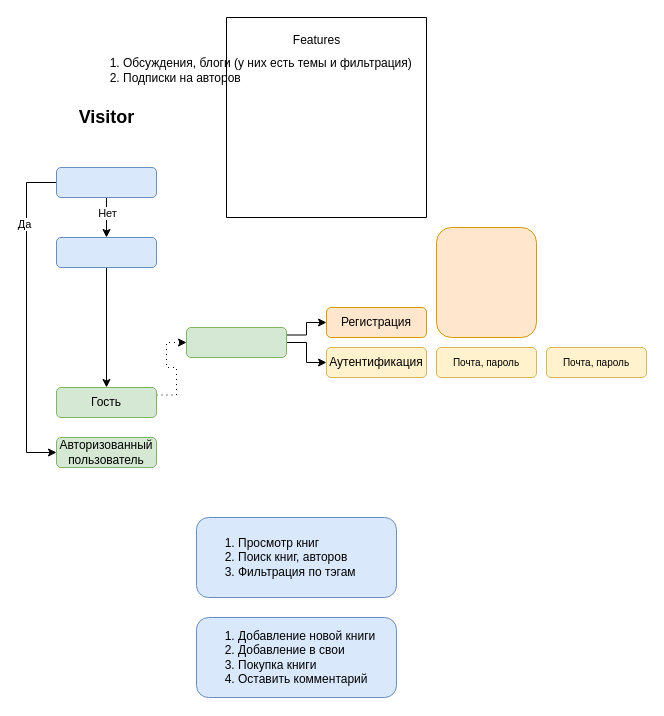
The diagram is 664 pixels wide and 716 high, and some of its shapes have lost their labels. Here are the shapes that lost their labels. From the top down, the centre of each, then its label:
At pixel 106 182: "Проверка токена".
At pixel 106 252: "Анонимная сессия".
At pixel 486 282: "Почта, пароль, подтверждение пароля, валидация и подтверждение почты".
At pixel 236 342: "Авторизация".
